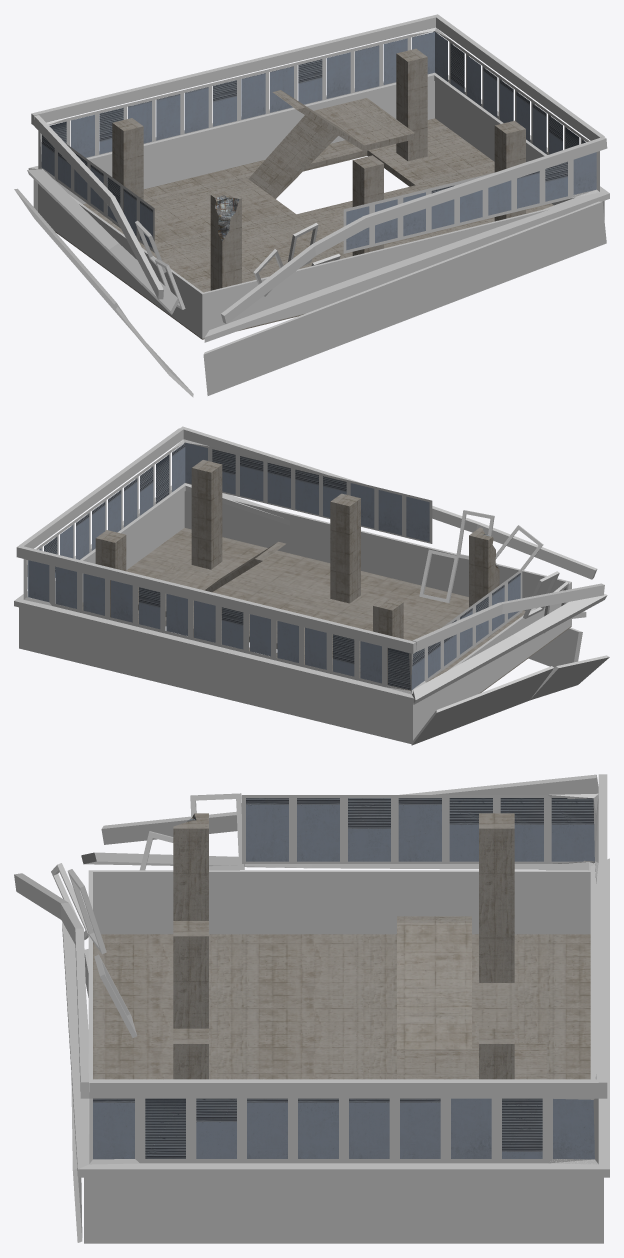
File: Ruin2C_LOD1.fbx
3 renders of one model, top to bottom at view 1: azimuth 30°, elevation 25°; view 2: azimuth 150°, elevation 25°; view 3: azimuth 270°, elevation 25°, orthographic. The views are drawn at different scales.
Visible parts, largest first — view 1: polySurface486; view 2: polySurface486; view 3: polySurface486.
Part boxes in pixels (bbox=[...]): polySurface486: bbox=[14, 14, 609, 397]; polySurface486: bbox=[14, 426, 609, 745]; polySurface486: bbox=[14, 774, 609, 1243].
Size of the model in its own units: 15.59 by 5.63 by 11.7.
